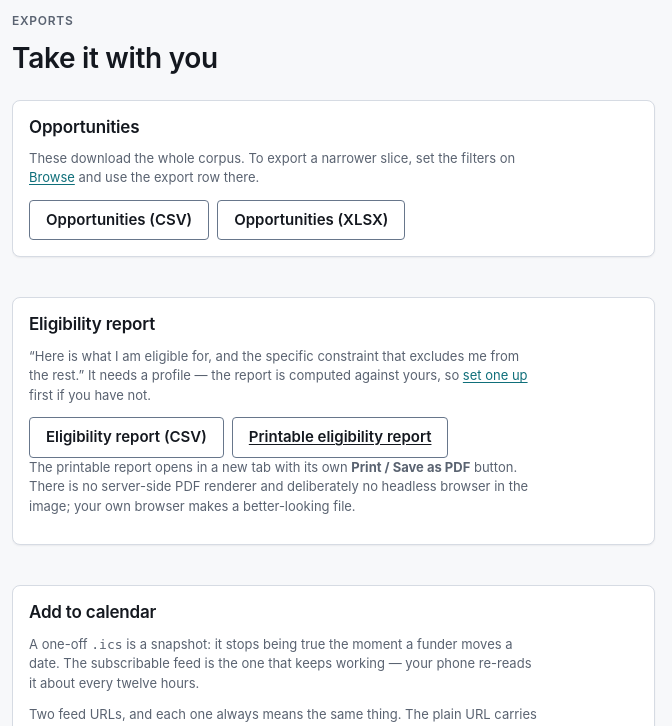
it: ExportsRoute › what actually lands on disk › writes no spreadsheet when the corpus published nothing, and says which nothing it was
Click the button "Opportunities (CSV)". click: (119, 220)
box: [29,200,209,240]
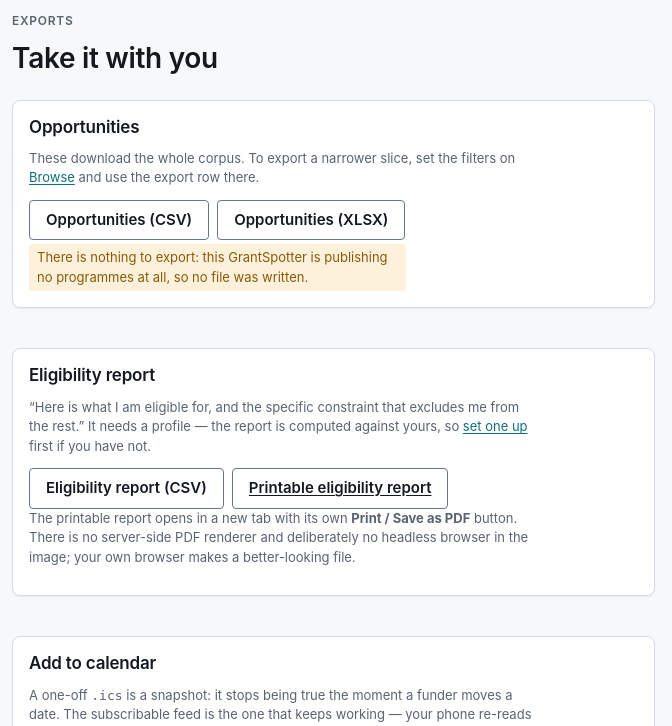
Expected: the text "There is nothing to export" shows "publishing no programmes at all", [37,250,388,285]
Expected: the text "There is nothing to export" shows "so no file was written.", [37,250,388,285]
